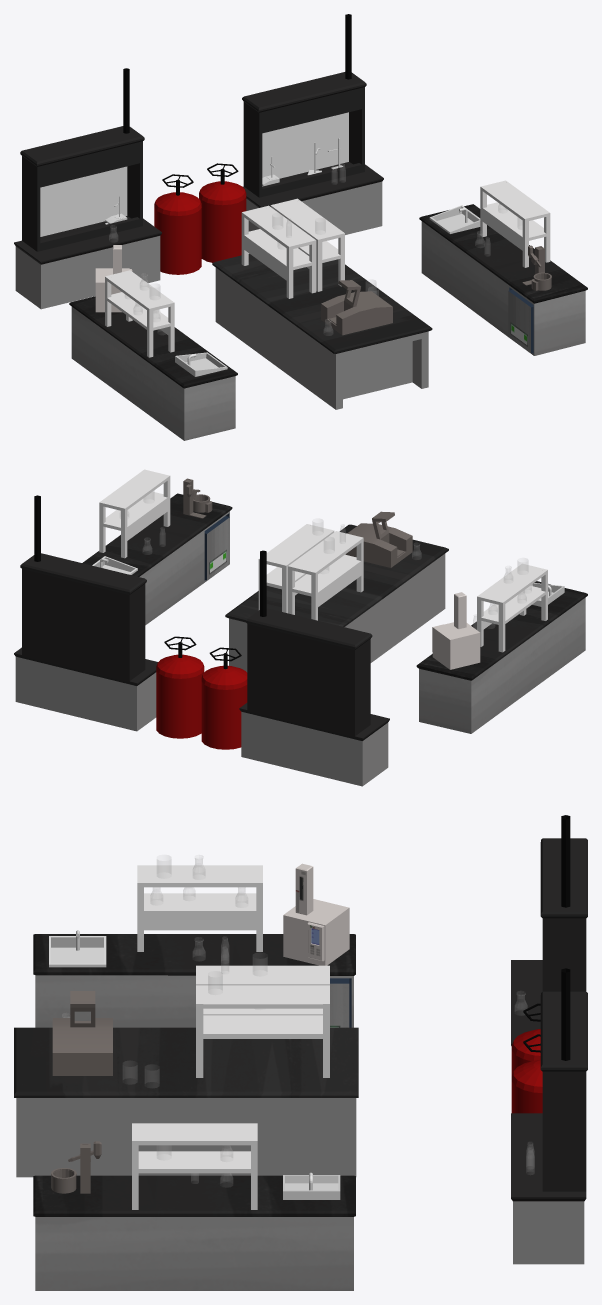
The model's file is ProductionRoomInterior.FBX.
The picture shows the model from 3 angles, top to bottom: view 1: azimuth 30°, elevation 25°; view 2: azimuth 150°, elevation 25°; view 3: azimuth 270°, elevation 25°; orthographic projection. The views are drawn at different scales.
Visible parts, largest first — view 1: VentilationBooth_001, CentreLabDesk_002, VentilationBooth_002, LabDesk_002, LabDesk_001, LabShelf_002, Canister_002, LabShelf_004, Canister_001, LabShelf_001, ChemistryEquipment_003, LabShelf_003 (+1 smaller); view 2: VentilationBooth_001, VentilationBooth_002, LabDesk_001, CentreLabDesk_002, LabDesk_002, LabShelf_002, Canister_001, Canister_002, LabShelf_004, LabShelf_001, ChemistryEquipment_002, ChemistryEquipment_003 (+4 smaller); view 3: CentreLabDesk_002, LabDesk_002, LabDesk_001, VentilationBooth_002, VentilationBooth_001, LabShelf_001, LabShelf_003, LabShelf_004, ChemistryEquipment_002, ChemistryEquipment_003, LabShelf_002, Canister_001 (+5 smaller).
Part boxes in pixels (x1,y1,x2,y2): VentilationBooth_001: (14,126,161,309); CentreLabDesk_002: (212,253,432,409); VentilationBooth_002: (242,72,383,234); LabDesk_002: (419,204,587,355); LabDesk_001: (69,296,237,440); LabShelf_002: (241,205,316,298); Canister_002: (154,174,201,274); LabShelf_004: (480,180,550,267); Canister_001: (199,163,246,262); LabShelf_001: (105,270,174,357); ChemistryEquipment_003: (321,280,392,335); LabShelf_003: (270,198,344,291); VentilationBooth_001: (239,608,389,786); VentilationBooth_002: (14,553,157,731); LabDesk_001: (416,581,587,733); CentreLabDesk_002: (225,524,448,672); LabDesk_002: (82,493,232,625); LabShelf_002: (288,531,363,620); Canister_001: (156,636,204,738); Canister_002: (201,647,247,749); LabShelf_004: (99,469,170,558); LabShelf_001: (477,563,547,652); ChemistryEquipment_002: (432,592,480,669); ChemistryEquipment_003: (345,511,412,567); CentreLabDesk_002: (14,1027,358,1177); LabDesk_002: (33,1175,355,1290); LabDesk_001: (33,934,355,1027); VentilationBooth_002: (511,991,587,1264); VentilationBooth_001: (511,838,587,1045); LabShelf_001: (137,865,262,951); LabShelf_003: (196,985,329,1077); LabShelf_004: (132,1123,257,1209); ChemistryEquipment_002: (283,863,349,965); ChemistryEquipment_003: (52,991,112,1075); LabShelf_002: (196,965,329,1015); Canister_001: (511,1034,542,1113).
Size of the model in its own units: 375 by 180 by 326.
9 materials, 4 textured.
